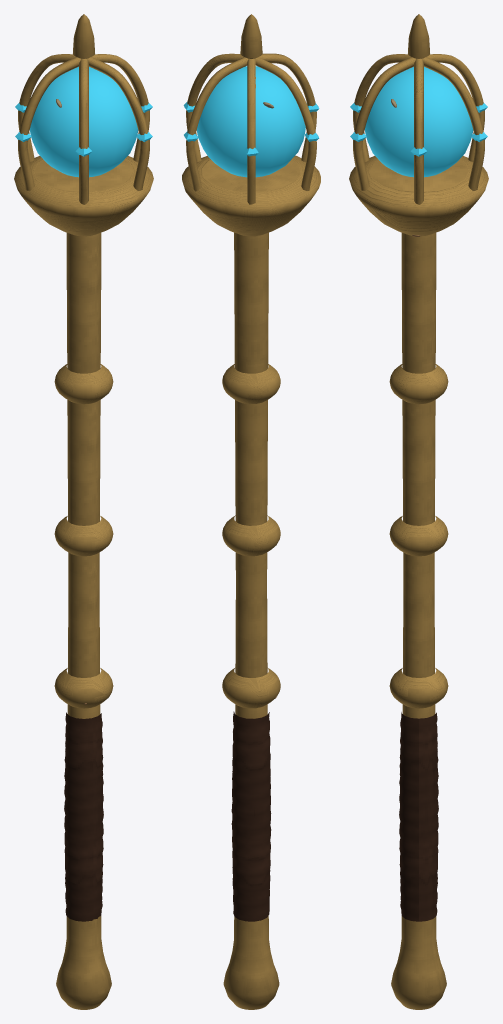
File: scepter.lod1.glb
3 views of the same model, side by side, from view 1: azimuth 90°, elevation 25°; view 2: azimuth 150°, elevation 25°; view 3: azimuth 270°, elevation 25° (orthographic).
Visible parts, largest first — view 1: brass / polished brass furniture, crystal / faceted crystal, leather / oiled leather wrap; view 2: brass / polished brass furniture, crystal / faceted crystal, leather / oiled leather wrap; view 3: brass / polished brass furniture, crystal / faceted crystal, leather / oiled leather wrap.
Boxes of the visible parts, bbox=[...] form: brass / polished brass furniture: bbox=[14, 14, 153, 1009]; crystal / faceted crystal: bbox=[15, 66, 152, 177]; leather / oiled leather wrap: bbox=[64, 712, 103, 921]; brass / polished brass furniture: bbox=[182, 14, 320, 1009]; crystal / faceted crystal: bbox=[183, 66, 319, 177]; leather / oiled leather wrap: bbox=[231, 711, 271, 921]; brass / polished brass furniture: bbox=[349, 14, 488, 1009]; crystal / faceted crystal: bbox=[350, 66, 487, 177]; leather / oiled leather wrap: bbox=[399, 712, 438, 921].
Bounding box in the file's own units: 0.112 × 0.7807 × 0.1.
Materials: 5 (2 with a texture image).
